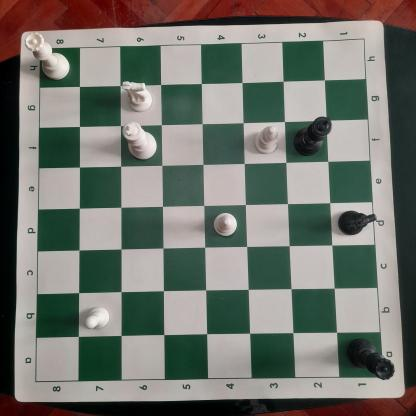black-king: (291, 114, 336, 159)
black-knight: (335, 205, 380, 241)
black-queen: (344, 334, 398, 384)
white-bishop: (253, 122, 283, 157), (211, 209, 241, 240)
white-king: (120, 119, 163, 164)
white-knight: (122, 78, 155, 118)
white-pawn: (81, 302, 112, 335)
white-queen: (24, 29, 72, 82)
